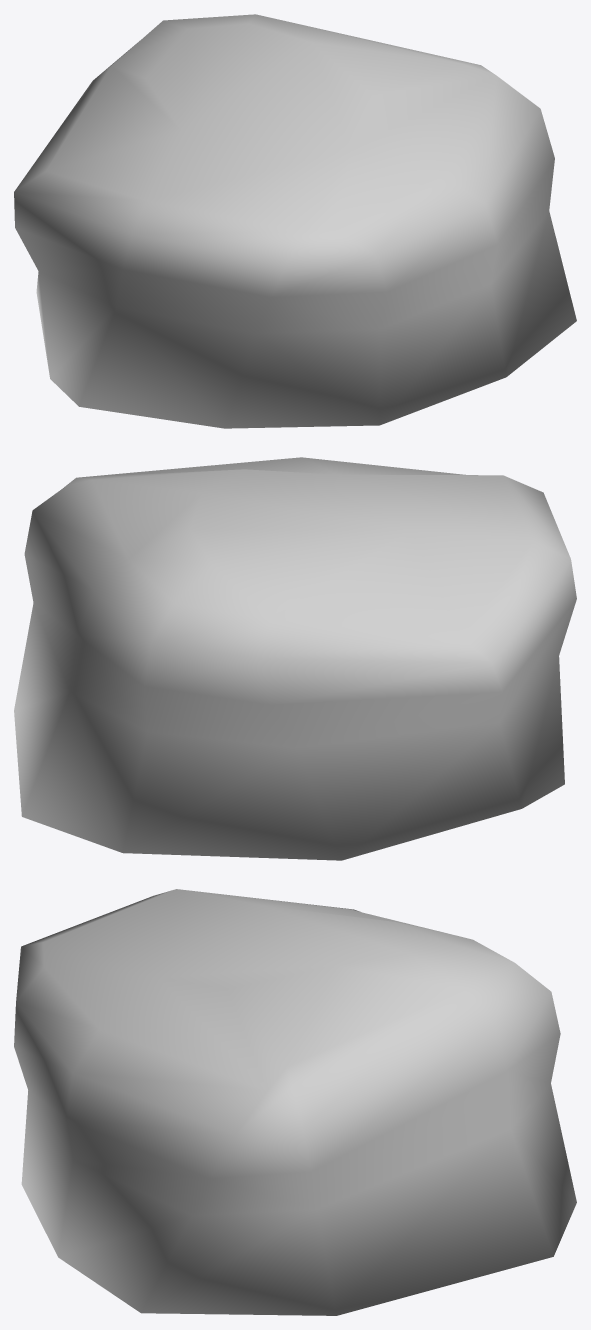
File: Rock 1.fbx
3 views of the same model, one above another, from view 1: azimuth 30°, elevation 25°; view 2: azimuth 150°, elevation 25°; view 3: azimuth 270°, elevation 25° (orthographic). The views are drawn at different scales.
Parts seen in each view (by area): view 1: Rock 1; view 2: Rock 1; view 3: Rock 1.
Part boxes in pixels (box(x1,y1,x2,y2)): Rock 1: box(14, 14, 576, 428); Rock 1: box(14, 457, 576, 860); Rock 1: box(14, 889, 576, 1315).
Bounding box in the file's own units: 1.09 × 0.5498 × 1.08.
